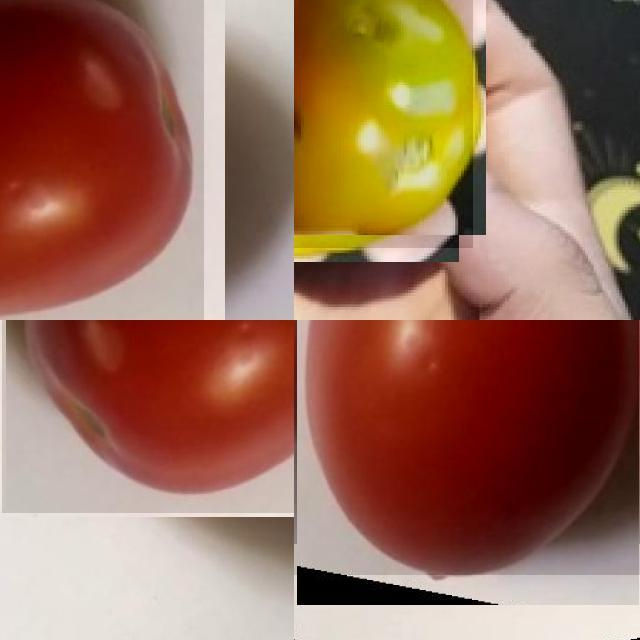Fresh Tomato: (294, 320, 640, 574), (0, 0, 204, 320), (2, 320, 294, 513)
Rotten Tomato: (294, 0, 473, 248)
